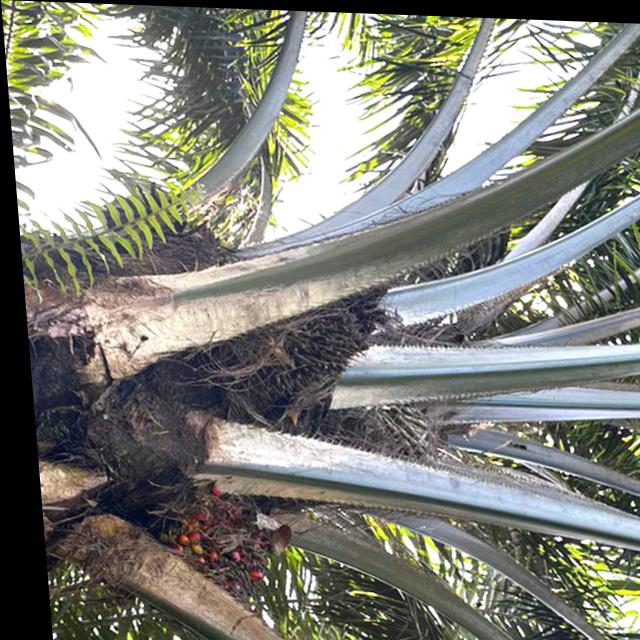almost: (200, 271, 393, 418)
